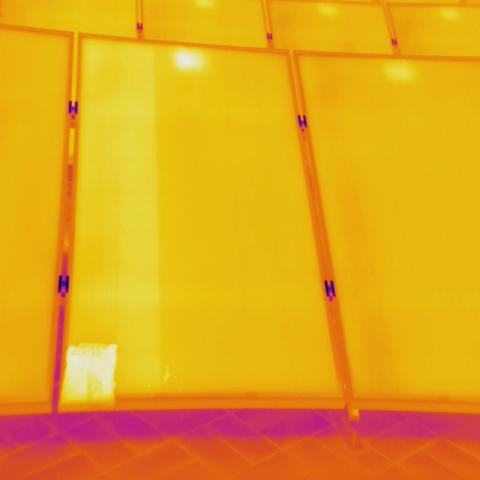fault: (58, 342, 123, 412), (175, 46, 200, 73)
